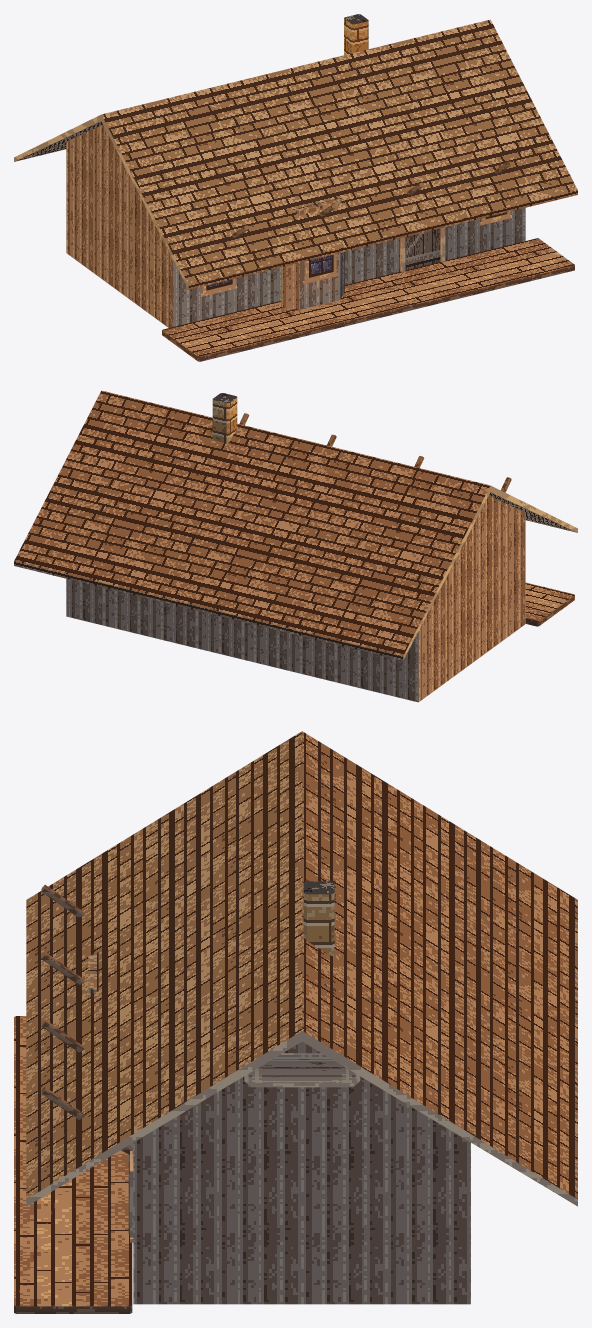
Rendered from wrail.station.glb.
3 views of the same model, one above another, from view 1: azimuth 30°, elevation 25°; view 2: azimuth 150°, elevation 25°; view 3: azimuth 270°, elevation 25° (orthographic). The views are drawn at different scales.
Visible parts, largest first — view 1: kit_roof, kit_body, kit_deck, kit_bay, kit_card_panes, kit_chimney, kit_windows; view 2: kit_roof, kit_body, kit_deck, kit_chimney; view 3: kit_roof, kit_body, kit_deck, kit_card_panes, kit_chimney, kit_braces, kit_trim.
Boxes of the visible parts, <box> form: kit_roof: <box>14,19,577,289</box>; kit_body: <box>66,125,525,327</box>; kit_deck: <box>162,238,574,361</box>; kit_bay: <box>281,197,344,309</box>; kit_card_panes: <box>206,212,507,290</box>; kit_chimney: <box>344,14,368,54</box>; kit_windows: <box>200,211,511,296</box>; kit_roof: <box>14,390,577,660</box>; kit_body: <box>66,496,525,702</box>; kit_deck: <box>525,582,574,626</box>; kit_chimney: <box>212,393,237,443</box>; kit_roof: <box>26,731,577,1206</box>; kit_body: <box>133,1041,470,1304</box>; kit_deck: <box>14,1016,132,1313</box>; kit_card_panes: <box>248,1059,355,1083</box>; kit_chimney: <box>303,881,334,956</box>; kit_braces: <box>41,884,133,1155</box>; kit_trim: <box>128,1053,360,1234</box>.
Size of the model in its own units: 12.6 by 6.5 by 10.02.
10 materials, 10 textured.
